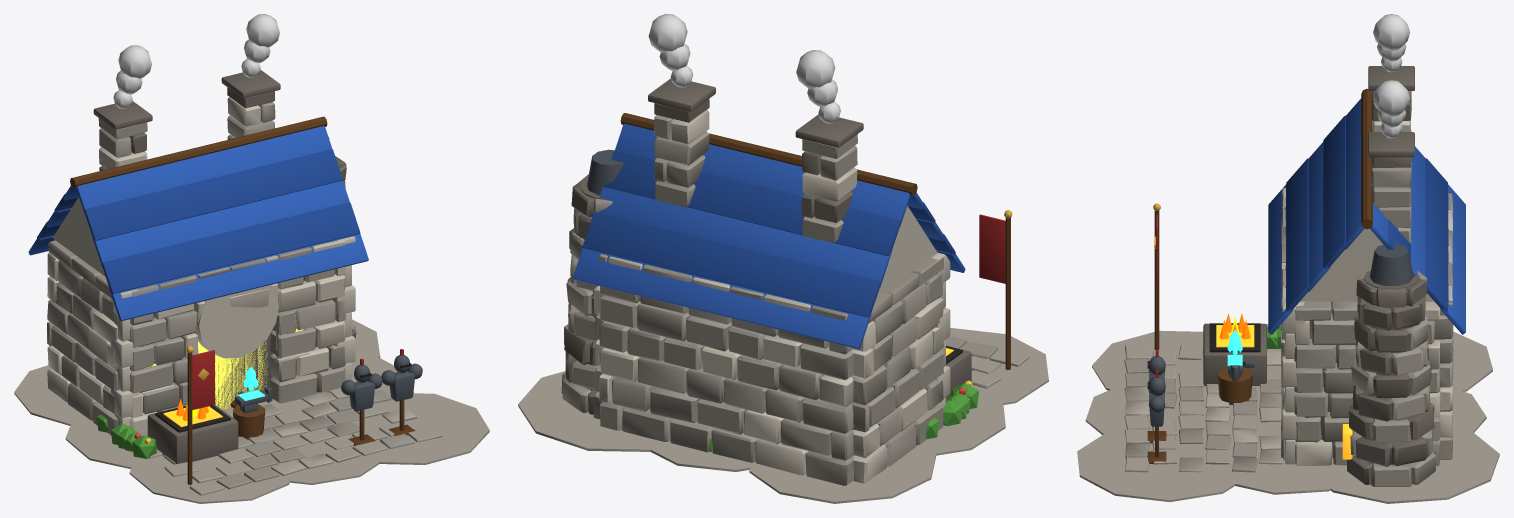
Rendered from kuznia_poz17.glb.
The picture shows the model from 3 angles, left to right: view 1: azimuth 30°, elevation 25°; view 2: azimuth 150°, elevation 25°; view 3: azimuth 270°, elevation 25°; orthographic projection. The views are drawn at different scales.
Visible parts, largest first — view 1: kuznia_poz17; view 2: kuznia_poz17; view 3: kuznia_poz17.
Part boxes in pixels (bbox=[...]): kuznia_poz17: bbox=[14, 14, 489, 503]; kuznia_poz17: bbox=[518, 14, 1048, 503]; kuznia_poz17: bbox=[1077, 14, 1499, 503].
Size of the model in its own units: 8.62 by 8.34 by 8.64.
